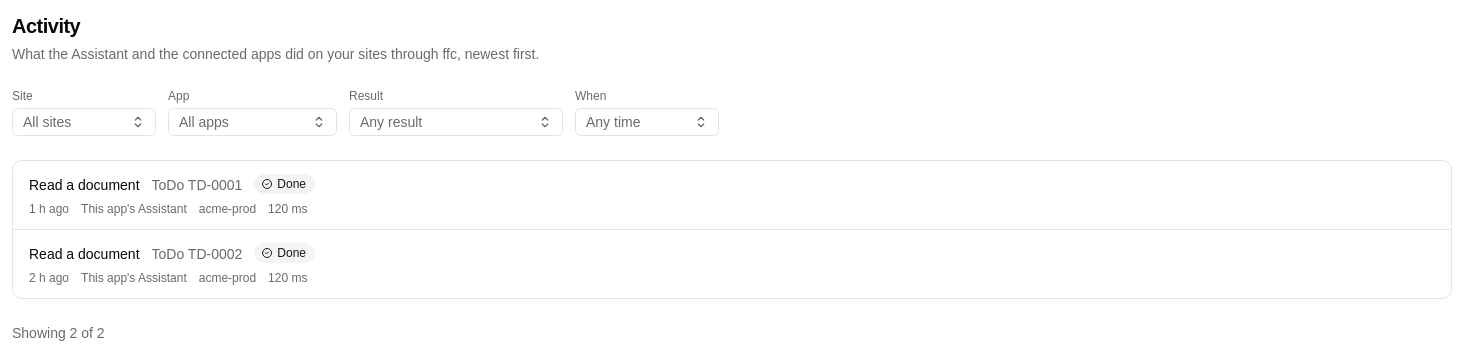
Test: activity screen › asks again with the app when it is filtered
Check: the list named "Tool calls" is shown, box [12, 160, 1452, 299]
Step 1. Select "claude-ai" in the dropdown labelled "App" → (252, 122), box [168, 108, 337, 136]
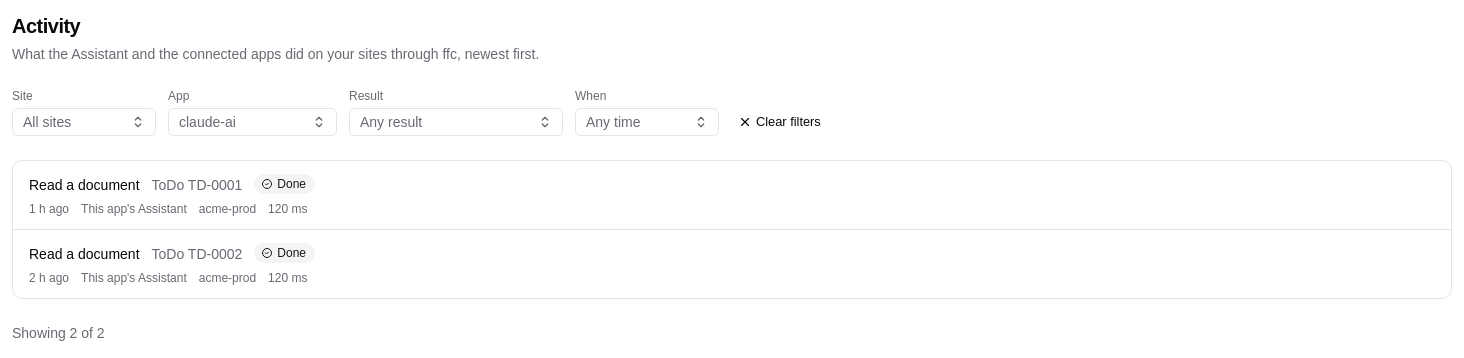
Check: the button "Clear filters" is shown, box [731, 108, 832, 136]
